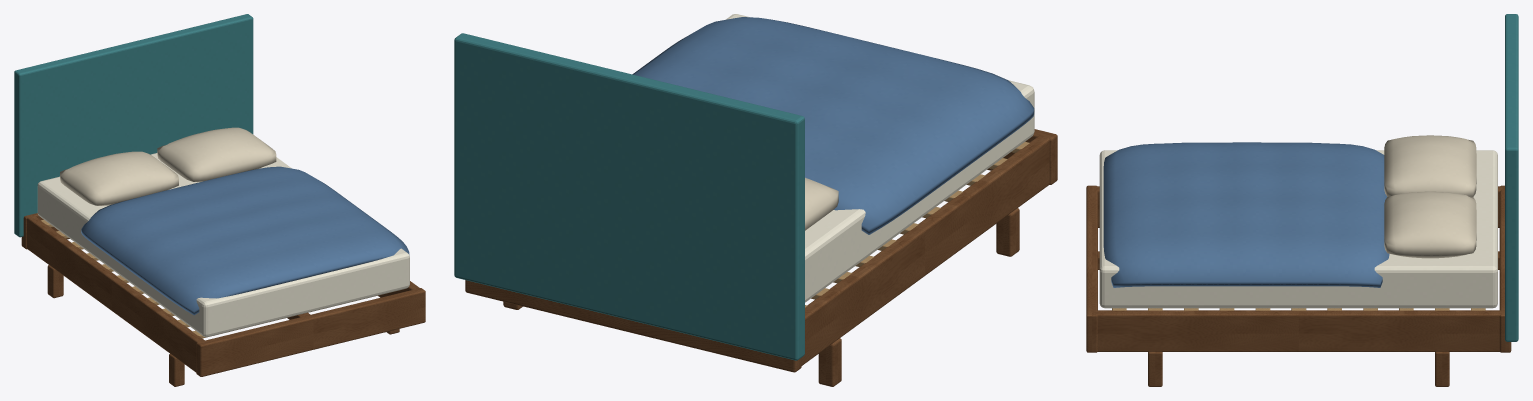
File: double_bed_bedding.glb
3 renders of one model, left to right at view 1: azimuth 30°, elevation 25°; view 2: azimuth 150°, elevation 25°; view 3: azimuth 270°, elevation 25°, orthographic. The views are drawn at different scales.
Visible parts, largest first — view 1: Quilted closed duvet, Bed headboard, Nominal dimensioned mattress, Bed end rail, Bed side rail, Plump pillow with closed seams.001, Plump pillow with closed seams, Rounded furniture foot.001, Rounded furniture foot; view 2: Bed headboard, Quilted closed duvet, Bed side rail, Nominal dimensioned mattress, Bed end rail.001, Plump pillow with closed seams, Rounded furniture foot, Rounded furniture foot.001, Bed end rail; view 3: Quilted closed duvet, Bed side rail.001, Nominal dimensioned mattress, Plump pillow with closed seams.001, Plump pillow with closed seams, Bed headboard, Bed end rail, Bed end rail.001, Rounded furniture foot.002, Rounded furniture foot.003.
Boxes of the visible parts, x1,y1,x2,y2 form: Quilted closed duvet: (81, 166, 409, 315); Bed headboard: (14, 14, 253, 237); Nominal dimensioned mattress: (37, 153, 409, 337); Bed end rail: (196, 288, 425, 376); Bed side rail: (27, 214, 204, 372); Plump pillow with closed seams.001: (157, 127, 276, 181); Plump pillow with closed seams: (60, 151, 178, 205); Rounded furniture foot.001: (47, 265, 63, 298); Rounded furniture foot: (169, 353, 184, 386); Bed headboard: (454, 33, 804, 360); Quilted closed duvet: (632, 17, 1034, 234); Bed side rail: (801, 133, 1052, 365); Nominal dimensioned mattress: (725, 14, 1034, 302); Bed end rail.001: (465, 280, 801, 372); Plump pillow with closed seams: (805, 177, 838, 230); Rounded furniture foot: (996, 208, 1019, 256); Rounded furniture foot.001: (818, 338, 841, 386); Bed end rail: (987, 129, 1057, 184); Quilted closed duvet: (1103, 142, 1389, 287); Bed side rail.001: (1096, 310, 1501, 351); Nominal dimensioned mattress: (1099, 150, 1497, 308); Plump pillow with closed seams.001: (1384, 191, 1476, 258); Plump pillow with closed seams: (1384, 135, 1476, 196); Bed headboard: (1505, 14, 1518, 341); Bed end rail: (1086, 185, 1097, 352); Bed end rail.001: (1499, 185, 1511, 352); Rounded furniture foot.002: (1148, 351, 1162, 386); Rounded furniture foot.003: (1435, 351, 1449, 386).
Bounding box in the file's own units: 1.53 × 1.27 × 2.06.
Materials: 6 (6 with a texture image).
